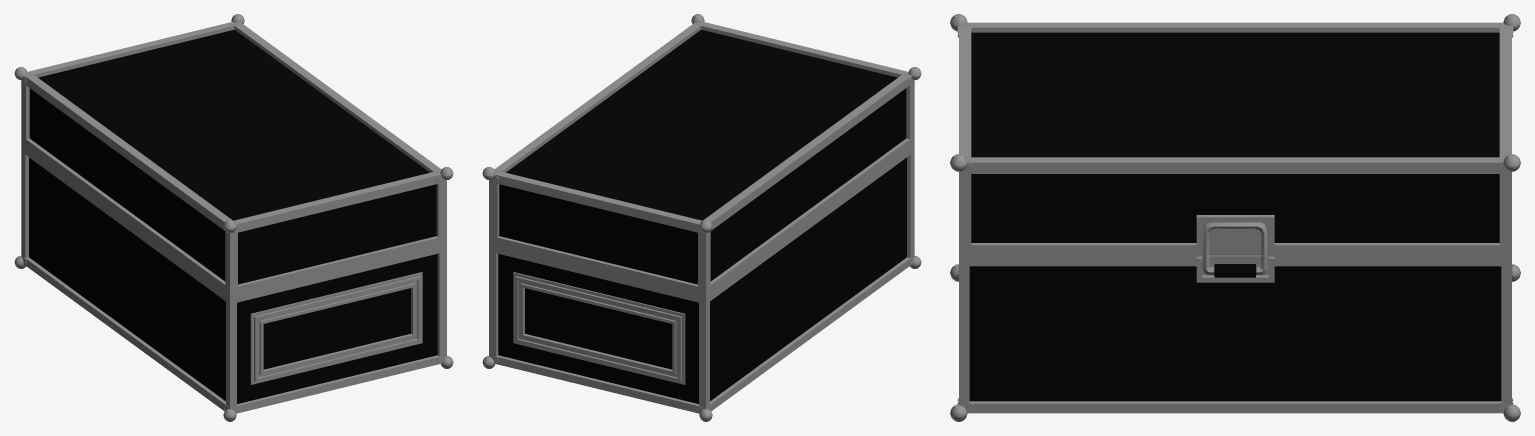
File: StorageCrate_01.glb
The picture shows the model from 3 angles, left to right: view 1: azimuth 30°, elevation 25°; view 2: azimuth 150°, elevation 25°; view 3: azimuth 270°, elevation 25°; orthographic projection. The views are drawn at different scales.
Visible parts, largest first — view 1: Mesh_StorageCrate_01; view 2: Mesh_StorageCrate_01; view 3: Mesh_StorageCrate_01.
Boxes of the visible parts, <box> form: Mesh_StorageCrate_01: <box>14,14,453,421</box>; Mesh_StorageCrate_01: <box>482,14,921,421</box>; Mesh_StorageCrate_01: <box>950,14,1520,421</box>.
Size of the model in its own units: 0.3159 by 0.2656 by 0.5163.
1 material, 1 textured.
